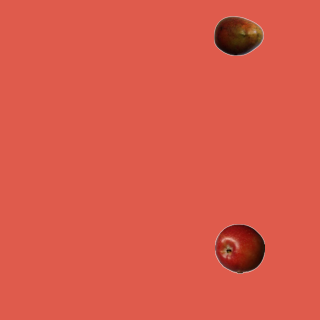Apple Braeburn: (214, 223, 264, 273)
Mango Red: (213, 10, 263, 60)
